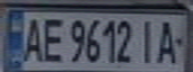1: (100, 17, 118, 64)
2: (115, 16, 136, 65)
6: (81, 16, 103, 64)
9: (63, 16, 87, 63)
A: (154, 17, 184, 65), (18, 14, 45, 63)
E: (39, 15, 66, 64)
I: (136, 16, 160, 65)
